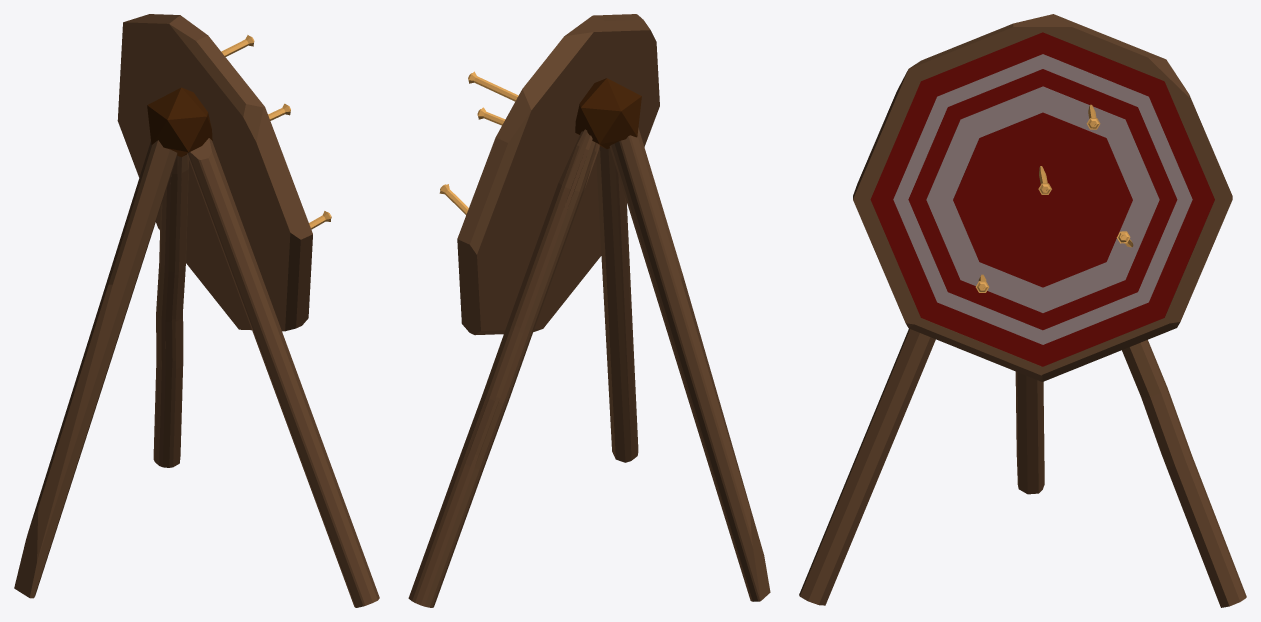
The model's file is Archer_2.fbx.
The picture shows the model from 3 angles, left to right: view 1: azimuth 30°, elevation 25°; view 2: azimuth 150°, elevation 25°; view 3: azimuth 270°, elevation 25°; orthographic projection. The views are drawn at different scales.
Parts seen in each view (by area): view 1: Cylinder.093, Cylinder.099, Cylinder.101, Cylinder.100, Icosphere.016; view 2: Cylinder.093, Cylinder.101, Cylinder.100, Cylinder.099, Icosphere.016; view 3: Cylinder.098, Cylinder.094, Cylinder.093, Cylinder.097, Cylinder.096, Cylinder.095, Cylinder.099, Cylinder.100, Cylinder.101.
Boxes of the visible parts, x1,y1,x2,y2 form: Cylinder.093: (117, 14, 312, 331); Cylinder.099: (187, 138, 379, 607); Cylinder.101: (14, 140, 177, 598); Cylinder.100: (153, 154, 188, 467); Icosphere.016: (147, 87, 212, 157); Cylinder.093: (457, 14, 659, 335); Cylinder.101: (609, 128, 770, 601); Cylinder.100: (408, 129, 599, 607); Cylinder.099: (596, 146, 638, 462); Icosphere.016: (575, 78, 641, 148); Cylinder.098: (953, 112, 1132, 287); Cylinder.094: (870, 32, 1214, 366); Cylinder.093: (853, 14, 1232, 381); Cylinder.097: (926, 86, 1159, 312); Cylinder.096: (908, 69, 1177, 330); Cylinder.095: (893, 54, 1192, 344); Cylinder.099: (799, 328, 935, 605); Cylinder.100: (1122, 340, 1246, 607); Cylinder.101: (1015, 371, 1044, 494).
Size of the model in its own units: 326 by 572 by 418.
